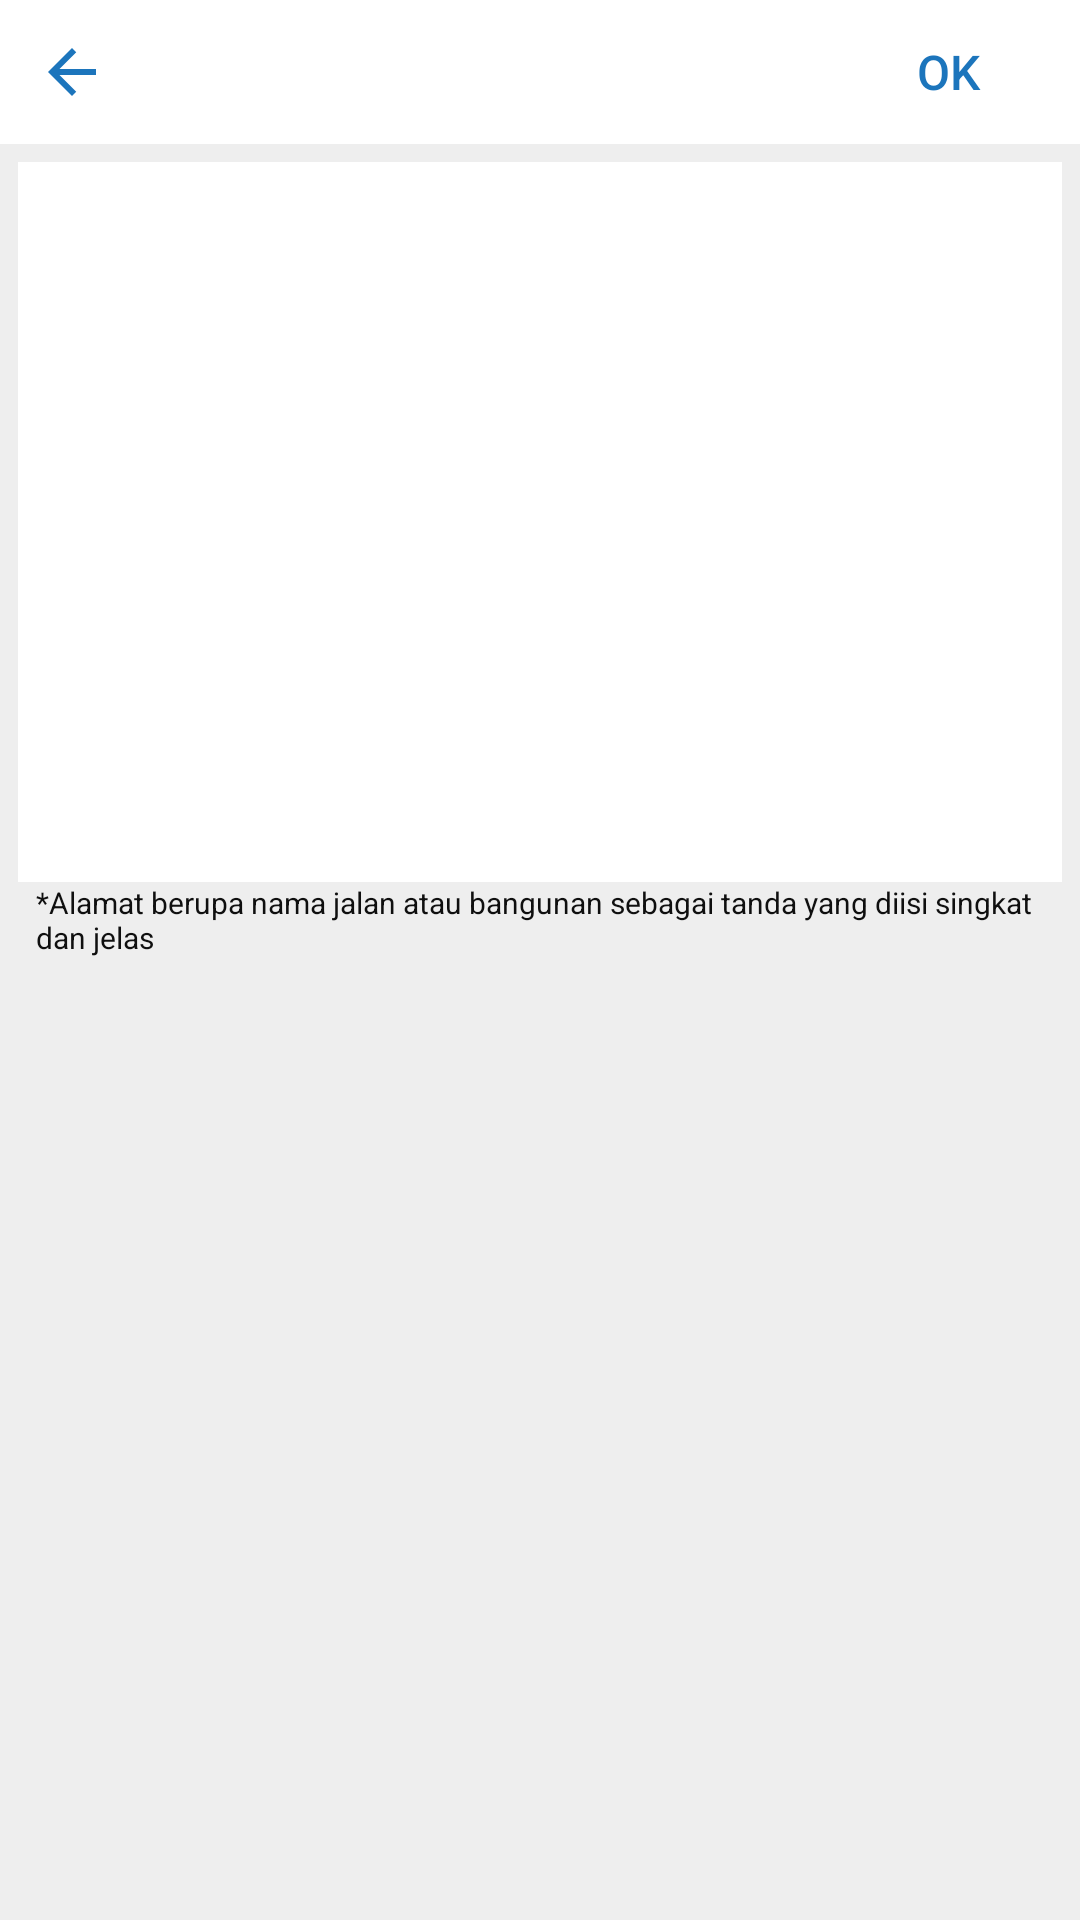

Named icons in this screenshot (1080×1920) and their centers, (x=x, y=y):
arrow back: (x=72, y=72)
